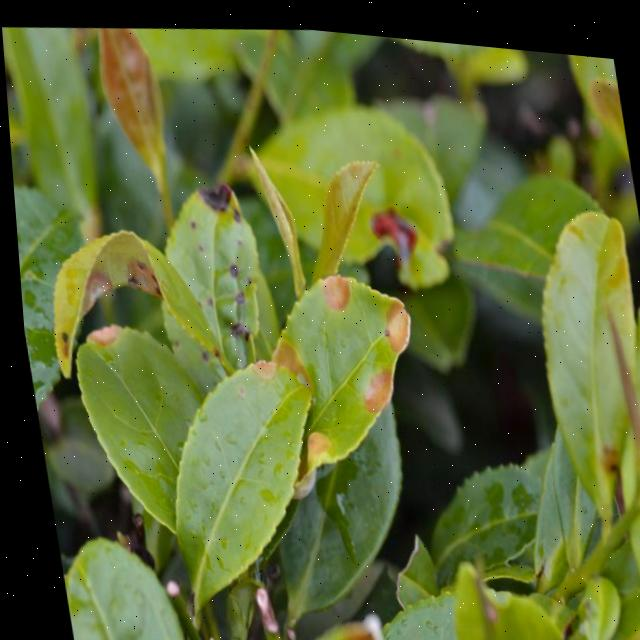Tea cake: (314, 263, 359, 311), (351, 362, 397, 406), (76, 265, 114, 309), (240, 344, 285, 381), (296, 421, 329, 466), (377, 295, 408, 342)
